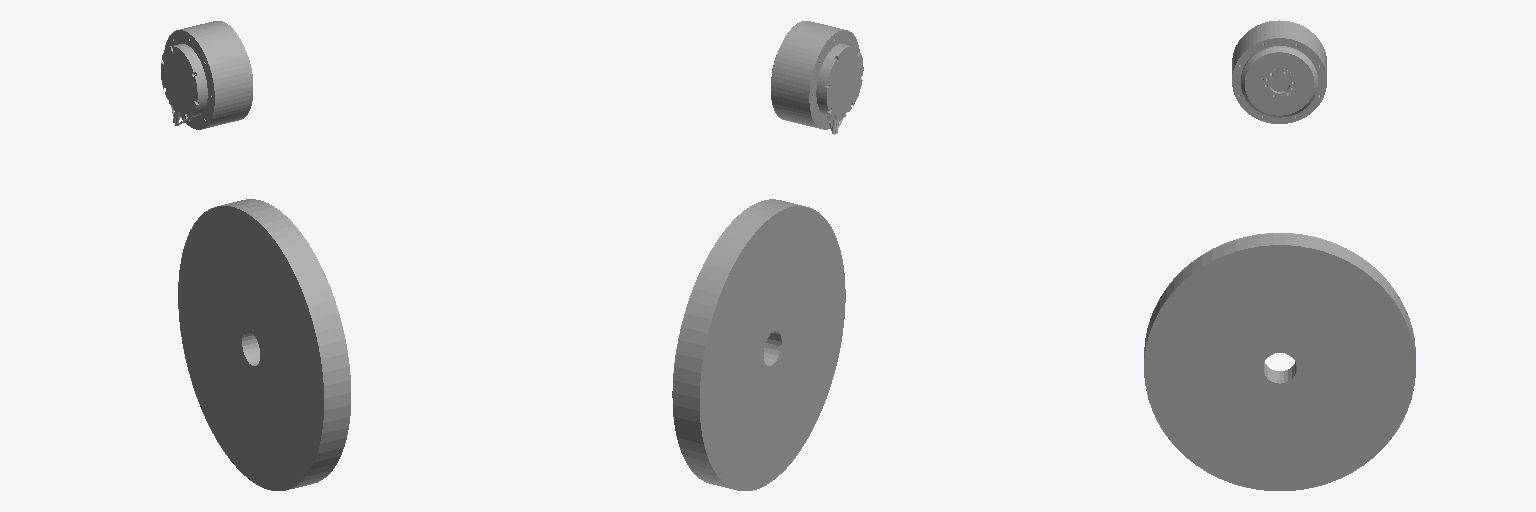
robot.urdf — simple_pendulum:
<?xml version="1.0" ?>
<!-- =================================================================================== -->
<!-- |    This document was autogenerated by xacro from simple_pendulum.xacro          | -->
<!-- |    EDITING THIS FILE BY HAND IS NOT RECOMMENDED                                 | -->
<!-- =================================================================================== -->
<robot name="simple_pendulum">
  <material name="silver">
    <color rgba="0.700 0.700 0.700 1.000"/>
  </material>
  <!-- <xacro:include filename="$(find simple_pendulum_editted_description)/urdf/simple_pendulum_editted.trans" /> -->
  <!-- <xacro:include filename="$(find simple_pendulum_editted_description)/urdf/simple_pendulum_editted.gazebo" /> -->
  <link name="base_link">
    <inertial>
      <origin rpy="0 0 0" xyz="0.0004996117854216743 4.5784050473674376e-07 0.3615103798417151"/>
      <mass value="4.145737620648409"/>
      <inertia ixx="0.237248" ixy="0.0" ixz="-0.000725" iyy="0.177967" iyz="0.0" izz="0.060655"/>
    </inertial>
    <visual>
      <origin rpy="0 0 0" xyz="0 0 0"/>
      <geometry>
        <mesh filename="package://simple_pendulum_description/meshes/editted/base_link.stl" scale="0.001 0.001 0.001"/>
      </geometry>
      <material name="silver"/>
    </visual>
    <collision>
      <origin rpy="0 0 0" xyz="0 0 0"/>
      <geometry>
        <mesh filename="package://simple_pendulum_description/meshes/editted/base_link.stl" scale="0.001 0.001 0.001"/>
      </geometry>
    </collision>
  </link>
  <link name="tmotor_ak80_64_1">
    <inertial>
      <origin rpy="0 0 0" xyz="0.02295418293149583 2.120148207704231e-05 -8.588628726624581e-05"/>
      <mass value="1.9847572941595912"/>
      <inertia ixx="0.002295" ixy="1e-06" ixz="-5e-06" iyy="0.001558" iyz="1e-06" izz="0.001552"/>
    </inertial>
    <visual>
      <origin rpy="0 0 0" xyz="-0.017 -0.0 -0.69779"/>
      <geometry>
        <mesh filename="package://simple_pendulum_description/meshes/editted/tmotor_ak80_64_1.stl" scale="0.001 0.001 0.001"/>
      </geometry>
      <material name="silver"/>
    </visual>
    <collision>
      <origin rpy="0 0 0" xyz="-0.017 -0.0 -0.69779"/>
      <geometry>
        <mesh filename="package://simple_pendulum_description/meshes/editted/tmotor_ak80_64_1.stl" scale="0.001 0.001 0.001"/>
      </geometry>
    </collision>
  </link>
  <link name="pendulum_1">
    <inertial>
      <origin rpy="0 0 0" xyz="0.029518189781869777 0.00025241669217958003 -0.18227709919098878"/>
      <mass value="0.6431423721098941"/>
      <inertia ixx="0.009345" ixy="-2e-06" ixz="0.001265" iyy="0.009741" iyz="1.2e-05" izz="0.000732"/>
    </inertial>
    <visual>
      <origin rpy="0 0 0" xyz="-0.0677 -0.0 -0.69779"/>
      <geometry>
        <mesh filename="package://simple_pendulum_description/meshes/editted/pendulum_1.stl" scale="0.001 0.001 0.001"/>
      </geometry>
      <material name="silver"/>
    </visual>
    <collision>
      <origin rpy="0 0 0" xyz="-0.0677 -0.0 -0.69779"/>
      <geometry>
        <mesh filename="package://simple_pendulum_description/meshes/editted/pendulum_1.stl" scale="0.001 0.001 0.001"/>
      </geometry>
    </collision>
  </link>
  <link name="circular_mass_1">
    <inertial>
      <origin rpy="0 0 0" xyz="0.014999999999921049 2.0743501213775495e-07 1.0247154907938594e-07"/>
      <mass value="10.00116203793268"/>
      <inertia ixx="0.099543" ixy="0.0" ixz="0.0" iyy="0.050521" iyz="0.0" izz="0.050521"/>
    </inertial>
    <visual>
      <origin rpy="0 0 0" xyz="-0.0857 -0.000415 -0.39779"/>
      <geometry>
        <mesh filename="package://simple_pendulum_description/meshes/editted/circular_mass_1.stl" scale="0.001 0.001 0.001"/>
      </geometry>
      <material name="silver"/>
    </visual>
    <collision>
      <origin rpy="0 0 0" xyz="-0.0857 -0.000415 -0.39779"/>
      <geometry>
        <mesh filename="package://simple_pendulum_description/meshes/editted/circular_mass_1.stl" scale="0.001 0.001 0.001"/>
      </geometry>
    </collision>
  </link>
  <joint name="fixed_joint_motor" type="fixed">
    <origin rpy="0 0 0" xyz="0.017 0.0 0.69779"/>
    <parent link="base_link"/>
    <child link="tmotor_ak80_64_1"/>
  </joint>
  <joint name="continuous_joint" type="continuous">
    <origin rpy="0 0 0" xyz="0.0507 0.0 0.0"/>
    <parent link="tmotor_ak80_64_1"/>
    <child link="pendulum_1"/>
    <axis xyz="1.0 0.0 -0.0"/>
  </joint>
  <joint name="fixed_joint_mass" type="fixed">
    <origin rpy="0 0 0" xyz="0.018 0.000415 -0.3"/>
    <parent link="pendulum_1"/>
    <child link="circular_mass_1"/>
  </joint>
</robot>

--- What the picture shows (computed from the rendered views, not written in the file) ---
The picture shows the robot from 3 angles, left to right: view 1: azimuth 30°, elevation 25°; view 2: azimuth 150°, elevation 25°; view 3: azimuth 270°, elevation 25°; orthographic projection.
Model simple_pendulum with 4 links and 3 joints (1 continuous, 2 fixed), rooted at base_link, posed every joint at zero.
Visible links, largest first — view 1: circular_mass_1, tmotor_ak80_64_1; view 2: circular_mass_1, tmotor_ak80_64_1; view 3: circular_mass_1, tmotor_ak80_64_1.
Boxes of the visible links, x1,y1,x2,y2 form: circular_mass_1: (178, 199, 350, 490); tmotor_ak80_64_1: (161, 21, 252, 129); circular_mass_1: (672, 199, 845, 490); tmotor_ak80_64_1: (771, 21, 863, 134); circular_mass_1: (1144, 233, 1415, 490); tmotor_ak80_64_1: (1232, 20, 1326, 123).
Size in the robot's own frame: 0.1099 by 0.2799 by 0.489 metres.
2 mesh visuals loaded from 4 distinct referenced files (2 binary STL); not drawn: 2 (reference not matched to a file when rendering).
